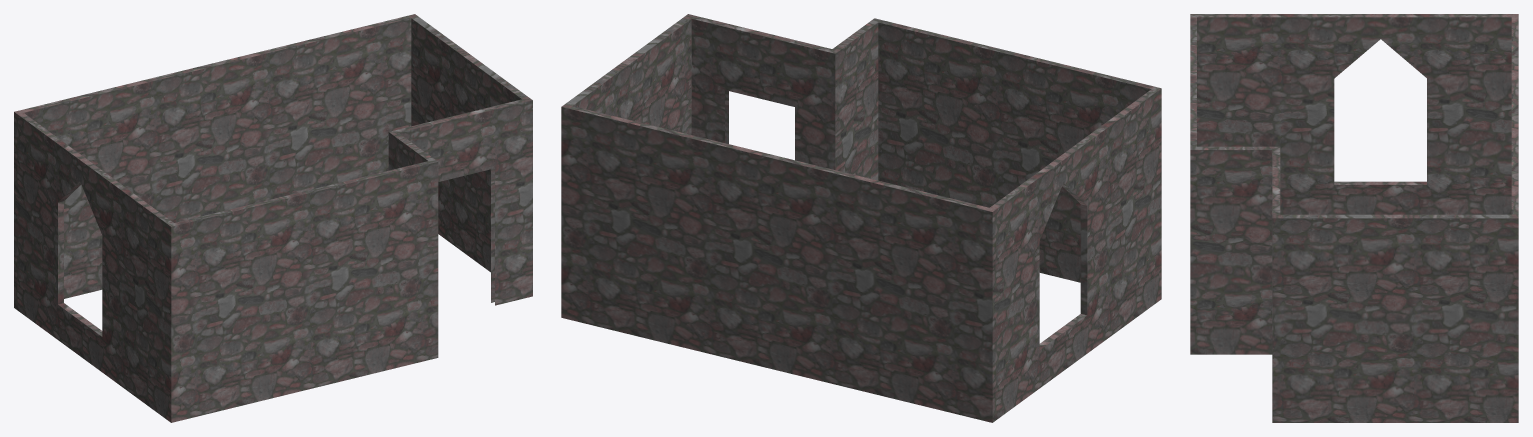
The model's file is Walls.fbx.
The picture shows the model from 3 angles, left to right: view 1: azimuth 30°, elevation 25°; view 2: azimuth 150°, elevation 25°; view 3: azimuth 270°, elevation 25°; orthographic projection. The views are drawn at different scales.
Parts seen in each view (by area): view 1: Cube.102; view 2: Cube.102; view 3: Cube.102.
Boxes of the visible parts, x1,y1,x2,y2 form: Cube.102: [14, 14, 532, 422]; Cube.102: [561, 14, 1161, 422]; Cube.102: [1190, 14, 1518, 422].
Size of the model in its own units: 1284 by 600 by 872.
